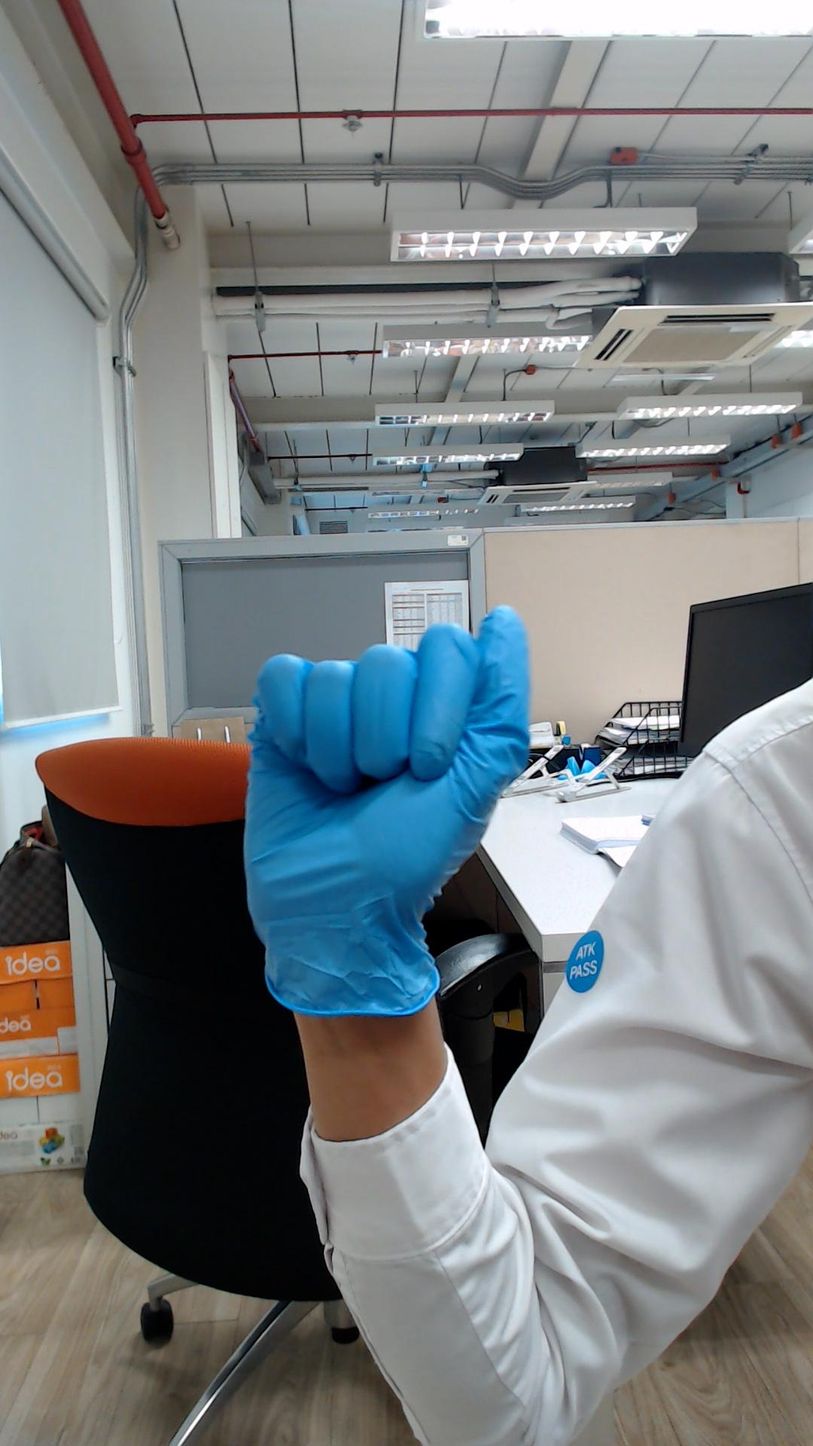gloves: (217, 560, 548, 908)
